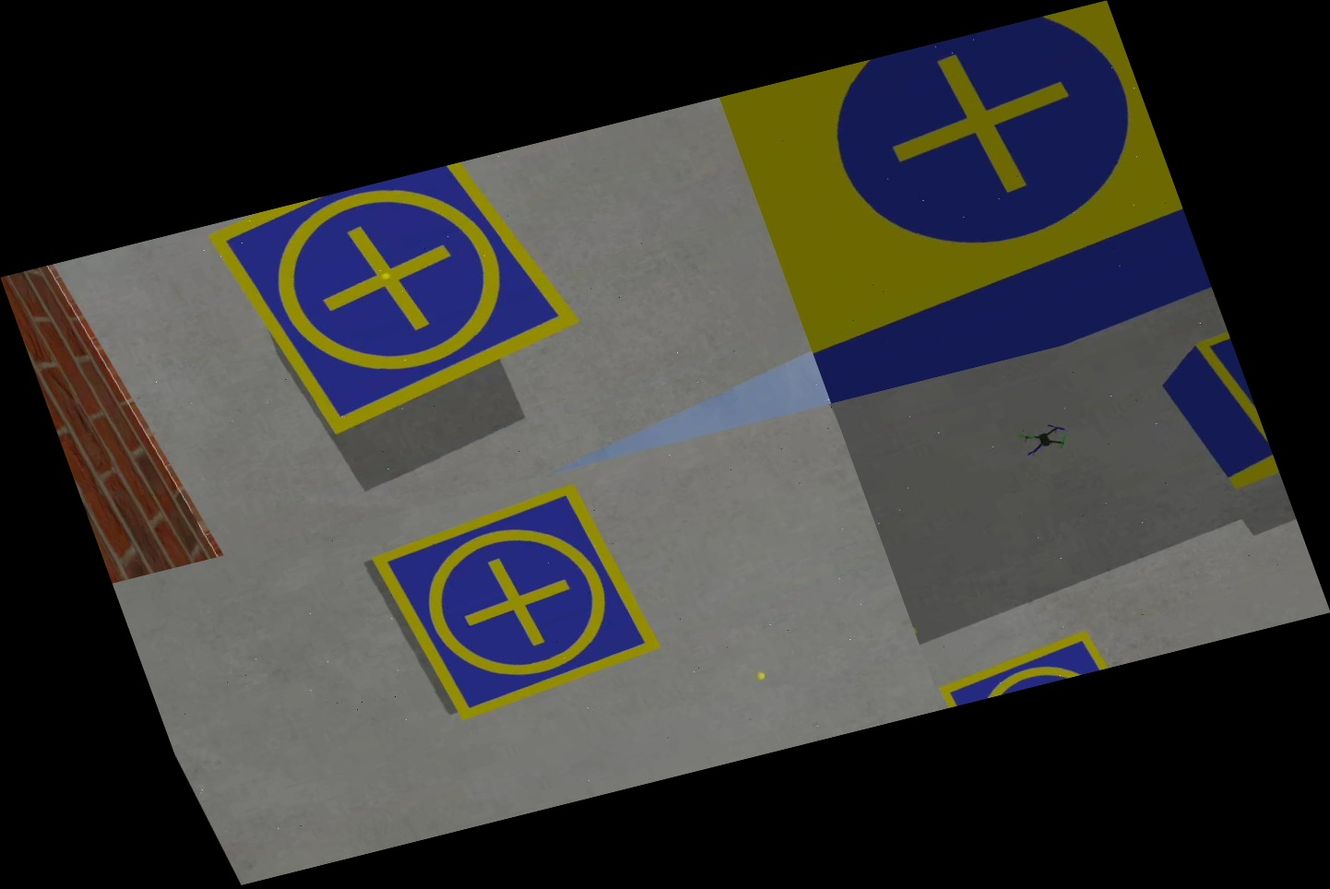large_base: (719, 0, 1218, 403)
small_base: (196, 146, 608, 456), (362, 474, 672, 729), (931, 622, 1130, 708)
